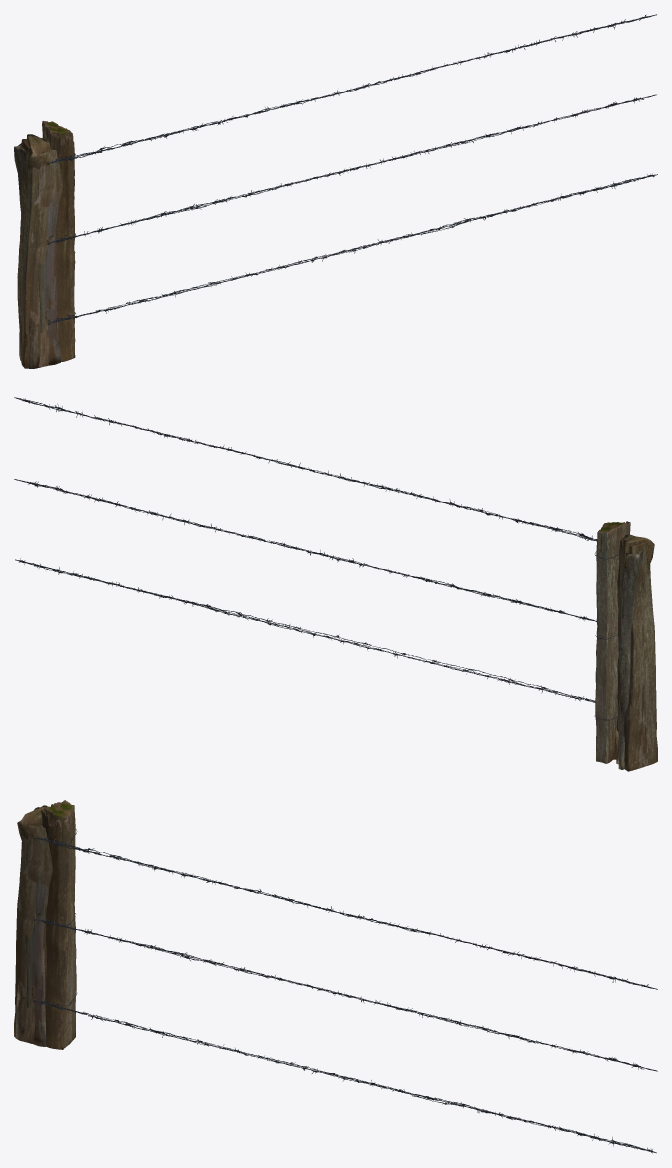
3 views of the same model, one above another, from view 1: azimuth 30°, elevation 25°; view 2: azimuth 150°, elevation 25°; view 3: azimuth 330°, elevation 25° (orthographic). The views are drawn at different scales.
Parts seen in each view (by area): view 1: xh0rah1iy_LOD0_TIER2_002, xh0rah1iy_LOD0_TIER2_003, xh0rah1iy_LOD0_TIER2_004, xh0rah1iy_LOD0_TIER2_000, xh0rah1iy_LOD0_TIER2_001; view 2: xh0rah1iy_LOD0_TIER2_002, xh0rah1iy_LOD0_TIER2_003, xh0rah1iy_LOD0_TIER2_004, xh0rah1iy_LOD0_TIER2_001, xh0rah1iy_LOD0_TIER2_000; view 3: xh0rah1iy_LOD0_TIER2_003, xh0rah1iy_LOD0_TIER2_002, xh0rah1iy_LOD0_TIER2_000, xh0rah1iy_LOD0_TIER2_004, xh0rah1iy_LOD0_TIER2_001.
Boxes of the visible parts, x1,y1,x2,y2 form: xh0rah1iy_LOD0_TIER2_002: [17, 14, 657, 368]; xh0rah1iy_LOD0_TIER2_003: [42, 121, 75, 361]; xh0rah1iy_LOD0_TIER2_004: [14, 15, 655, 346]; xh0rah1iy_LOD0_TIER2_000: [29, 14, 656, 368]; xh0rah1iy_LOD0_TIER2_001: [27, 15, 657, 365]; xh0rah1iy_LOD0_TIER2_002: [15, 398, 657, 771]; xh0rah1iy_LOD0_TIER2_003: [594, 521, 630, 763]; xh0rah1iy_LOD0_TIER2_004: [14, 397, 643, 769]; xh0rah1iy_LOD0_TIER2_001: [14, 398, 654, 702]; xh0rah1iy_LOD0_TIER2_000: [14, 397, 620, 701]; xh0rah1iy_LOD0_TIER2_003: [35, 800, 77, 1049]; xh0rah1iy_LOD0_TIER2_002: [14, 807, 657, 1152]; xh0rah1iy_LOD0_TIER2_000: [15, 824, 657, 1153]; xh0rah1iy_LOD0_TIER2_004: [25, 825, 657, 1151]; xh0rah1iy_LOD0_TIER2_001: [17, 805, 656, 1153].
Size of the model in its own units: 3.11 by 1.08 by 0.192.
1 material, 1 textured.
